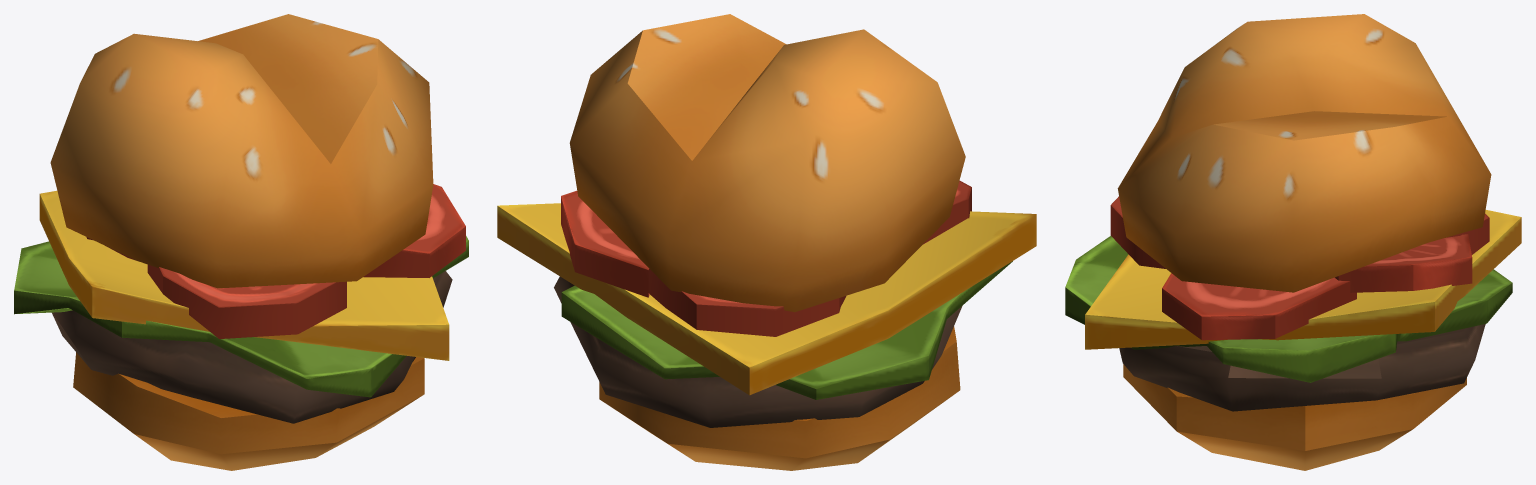
File: hamburger.FBX
3 views of the same model, side by side, from view 1: azimuth 30°, elevation 25°; view 2: azimuth 150°, elevation 25°; view 3: azimuth 270°, elevation 25° (orthographic). The views are drawn at different scales.
Parts seen in each view (by area): view 1: hamburger; view 2: hamburger; view 3: hamburger.
Part boxes in pixels (x1,y1,x2,y2): hamburger: [14, 14, 468, 470]; hamburger: [497, 14, 1036, 470]; hamburger: [1065, 14, 1521, 470].
Bounding box in the file's own units: 5.24 × 4.67 × 5.17.
